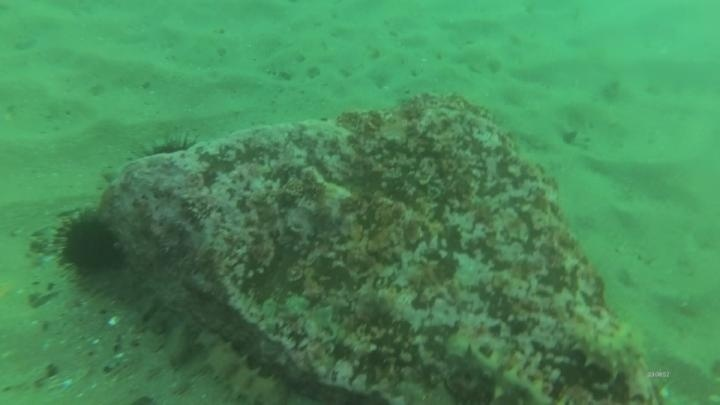echinus: (50, 206, 131, 281), (132, 130, 202, 184)
holothurian: (559, 310, 656, 396), (441, 340, 557, 405), (191, 326, 286, 405)
